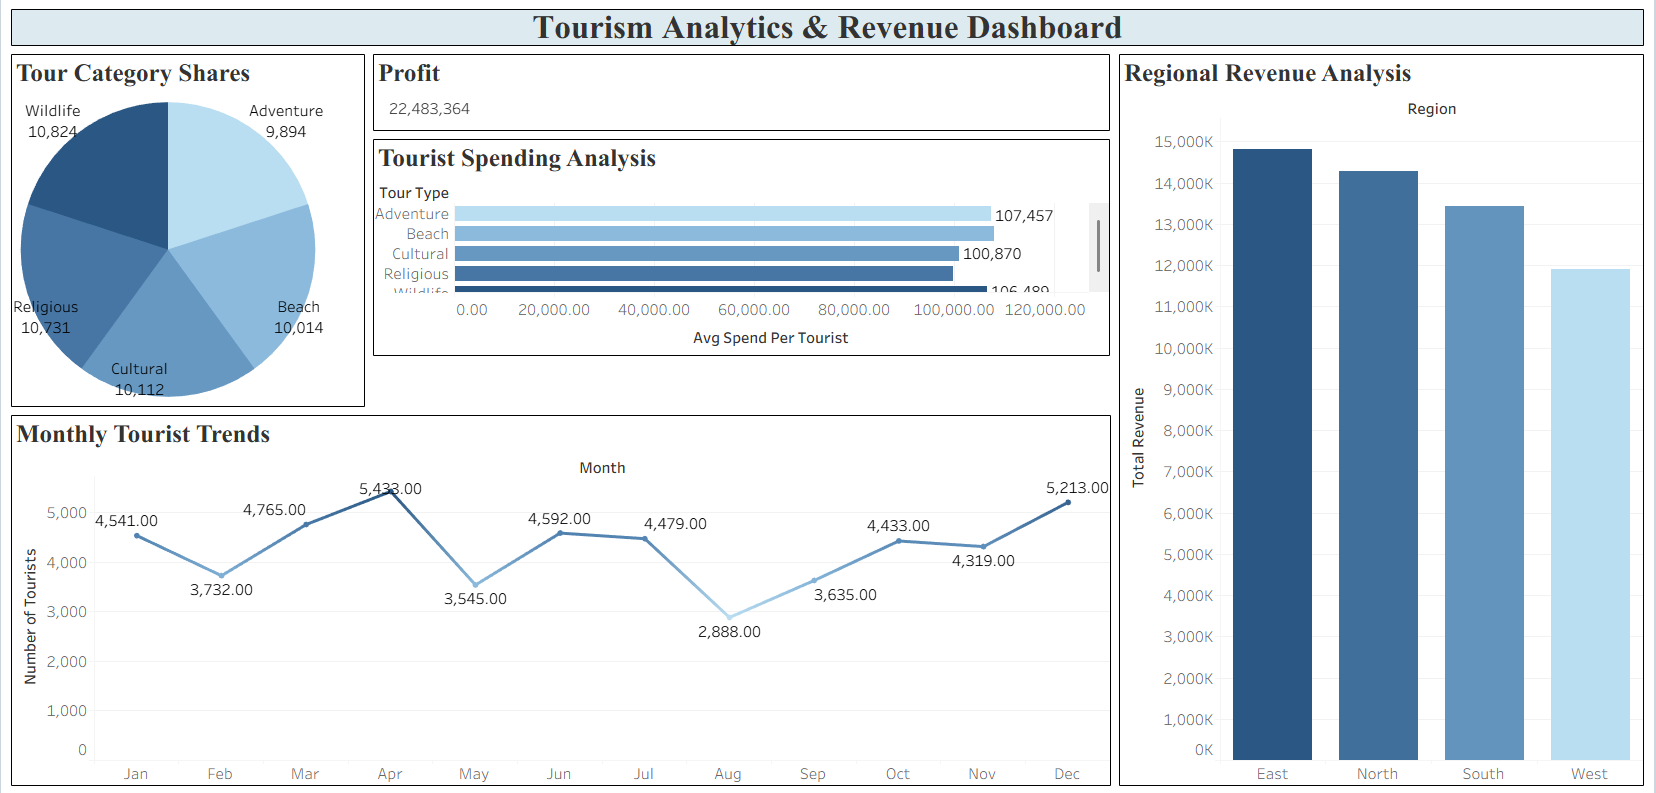

The page's visual inventory and layout, read from the dashboard file:
{"tool":"tableau","page":{"name":"Dashboard 1","canvas":[1000,1000],"units":"permille","ordinal":0},"visuals":[{"type":"title","box":[4.8,10,990.3,56.2]},{"type":"worksheet","title":"Categories in Tours","mark":"Pie","box":[4.8,66.2,218.5,450.7]},{"type":"worksheet","title":"Profit","mark":"Automatic","box":[223.3,66.2,449.6,106.1]},{"type":"worksheet","title":"Revenue by Region","mark":"Automatic","rows":["Total_Revenue"],"cols":["Region"],"box":[673.5,66.2,321.7,923.8]},{"type":"worksheet","title":"spend per tourist","mark":"Automatic","rows":["Tour_Type"],"cols":["Avg_Spend_Per_Tourist"],"box":[223.3,172.3,449.6,280.9]},{"type":"worksheet","title":"Trend line of tourist","mark":"Line","rows":["Number_of_Tourists"],"cols":["Month"],"box":[4.8,516.9,668.7,473.2]}]}

Visuals, with their boxes on the dashboard's canvas, which has no fixed pixel size, in thousandths of its width and height (x1, y1, x2, y2). These are canvas units, not pixel positions in the 1656x793 screenshot, which may show the page scaled, cropped or inside an application window:
title: left=5, top=10, right=995, bottom=66
"Categories in Tours" worksheet (Pie marks): left=5, top=66, right=223, bottom=517
"Profit" worksheet: left=223, top=66, right=673, bottom=172
"Revenue by Region" worksheet: left=674, top=66, right=995, bottom=990
"spend per tourist" worksheet: left=223, top=172, right=673, bottom=453
"Trend line of tourist" worksheet (Line marks): left=5, top=517, right=674, bottom=990
